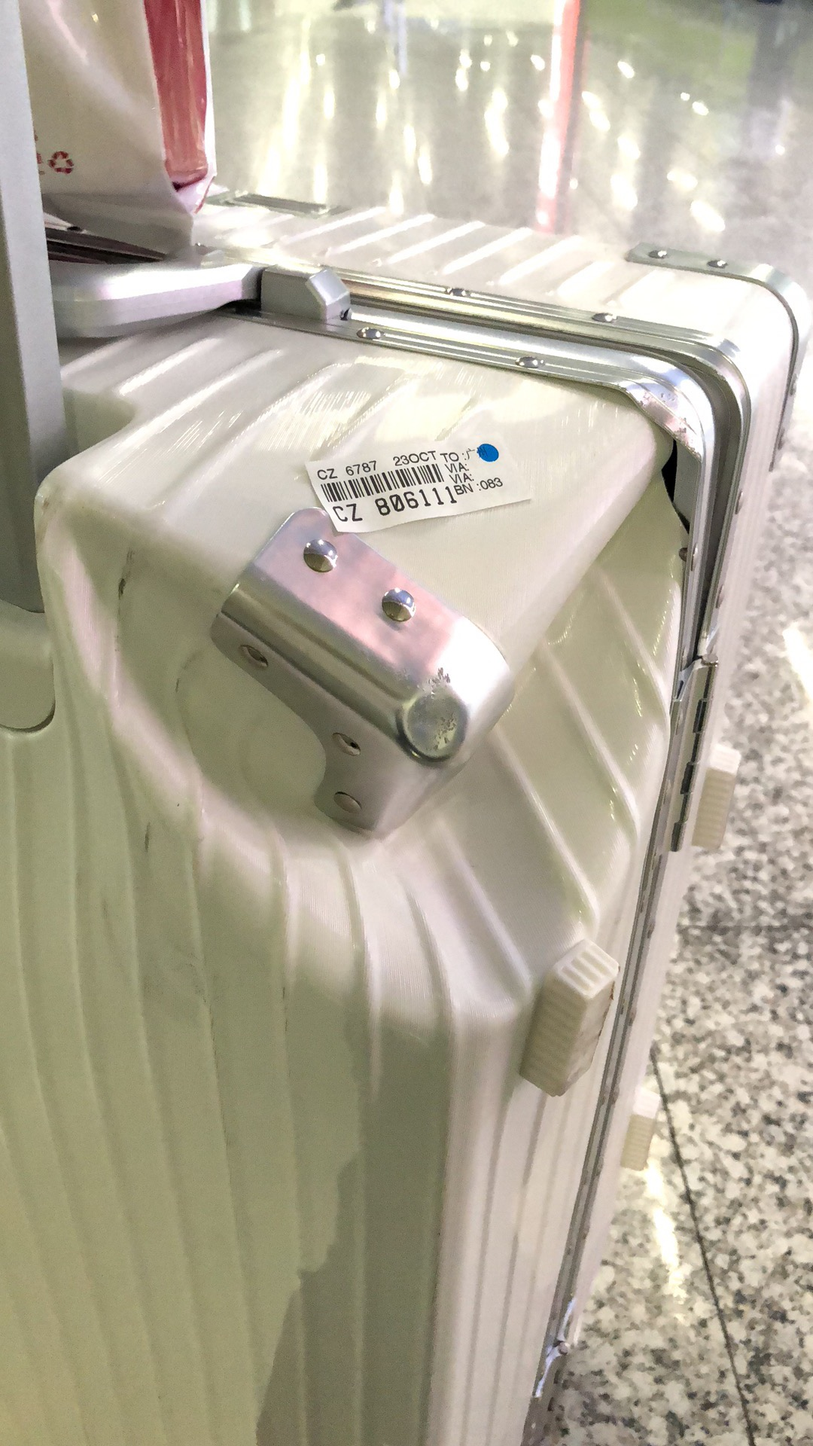rupture: (32, 386, 684, 1024)
